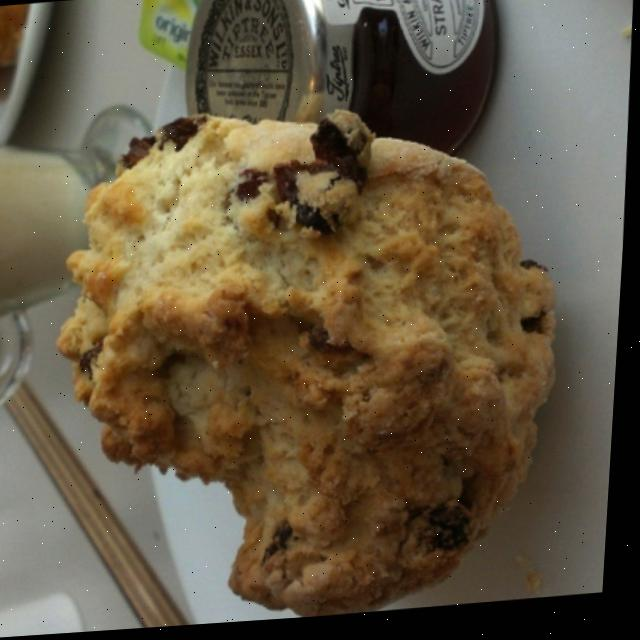面包点心: (18, 64, 597, 637)
